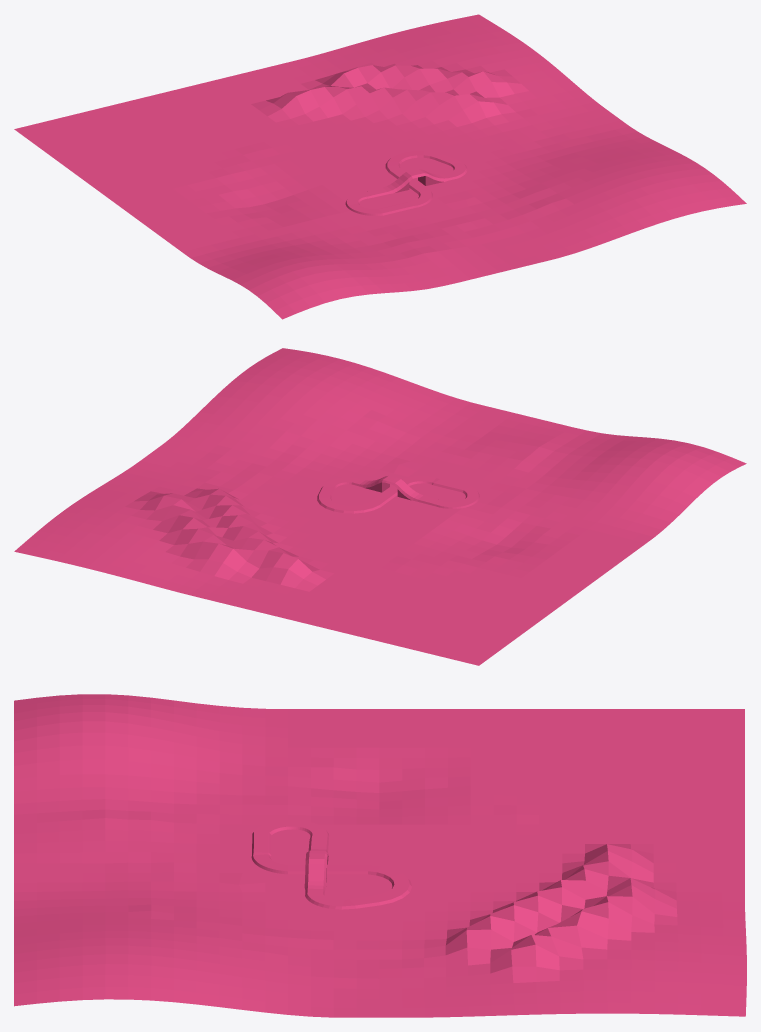
File: Track.fbx
3 views of the same model, one above another, from view 1: azimuth 30°, elevation 25°; view 2: azimuth 150°, elevation 25°; view 3: azimuth 270°, elevation 25° (orthographic). The views are drawn at different scales.
Parts seen in each view (by area): view 1: louka, Dráha; view 2: louka, Dráha; view 3: louka, Dráha.
Boxes of the visible parts, left/top/right/bottom form: louka: left=14, top=14, right=746, bottom=319; Dráha: left=345, top=150, right=467, bottom=215; louka: left=14, top=348, right=746, bottom=665; Dráha: left=317, top=475, right=479, bottom=513; louka: left=14, top=694, right=746, bottom=1017; Dráha: left=251, top=820, right=412, bottom=909.
Bounding box in the file's own units: 201 × 13.56 × 201.
